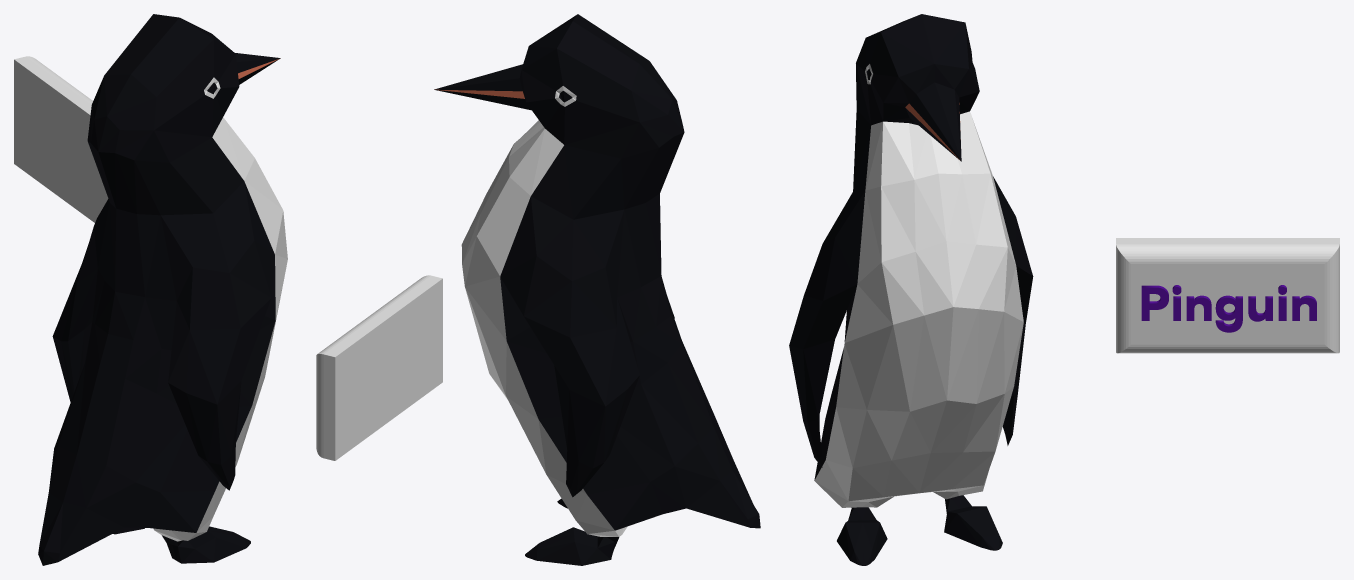
The model's file is Pinguin.fbx.
3 views of the same model, side by side, from view 1: azimuth 30°, elevation 25°; view 2: azimuth 150°, elevation 25°; view 3: azimuth 270°, elevation 25° (orthographic). The views are drawn at different scales.
Visible parts, largest first — view 1: Object_4.008, Cube.009; view 2: Object_4.008, Cube.009; view 3: Object_4.008, Cube.009, Text.009.
Boxes of the visible parts, x1,y1,x2,y2 form: Object_4.008: (38,14,287,565); Cube.009: (14,56,108,222); Object_4.008: (434,14,760,565); Cube.009: (316,275,442,460); Object_4.008: (789,14,1033,565); Cube.009: (1116,238,1339,353); Text.009: (1141,285,1316,332).
Size of the model in its own units: 2.55 by 4.42 by 4.16.
